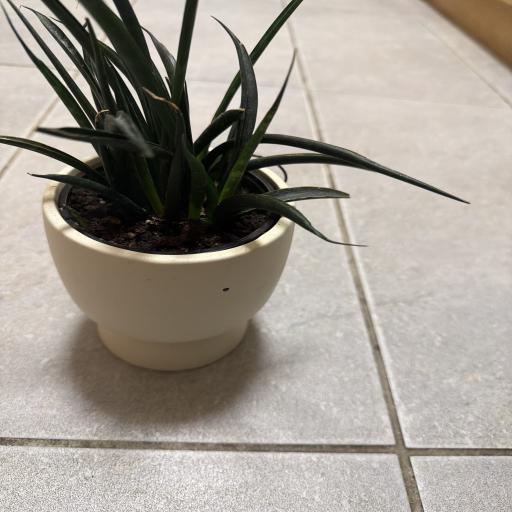Plant Pot: (39, 160, 299, 372)
